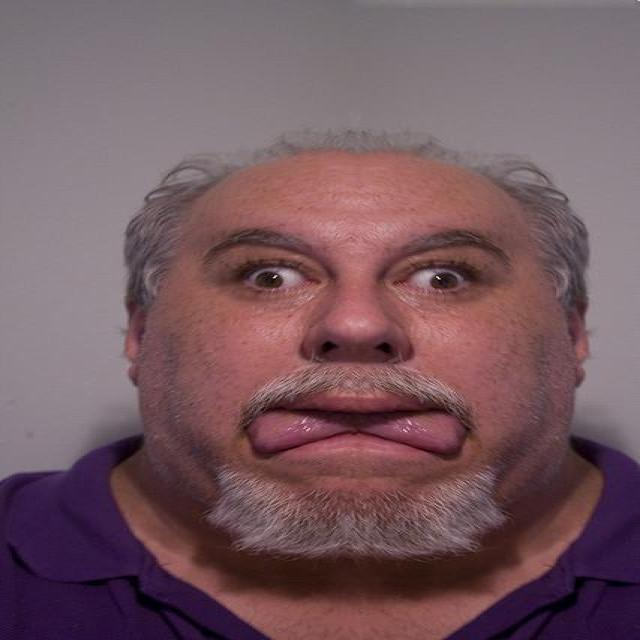no-glass: (223, 264, 488, 295)
